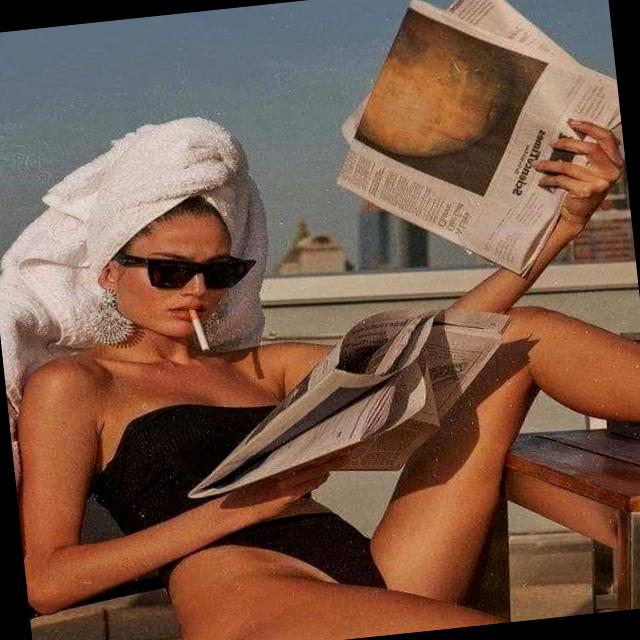cigarette: (177, 292, 228, 369)
